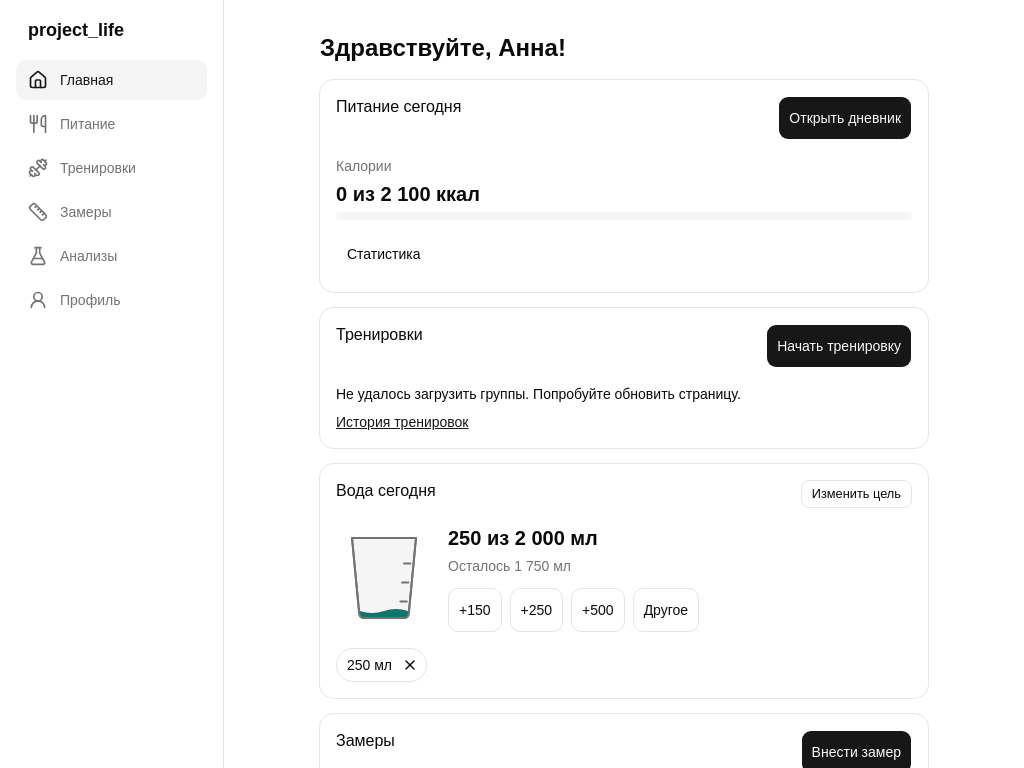
it: вода на главной › показывает отказ сервера при удалении порции
This screenshot has width=1024, height=768.
What coordinates should you click on to do the following:
click the button named "Убрать 250 мл"
I would click on:
 (410, 665)
Its box is [394,649,426,681].
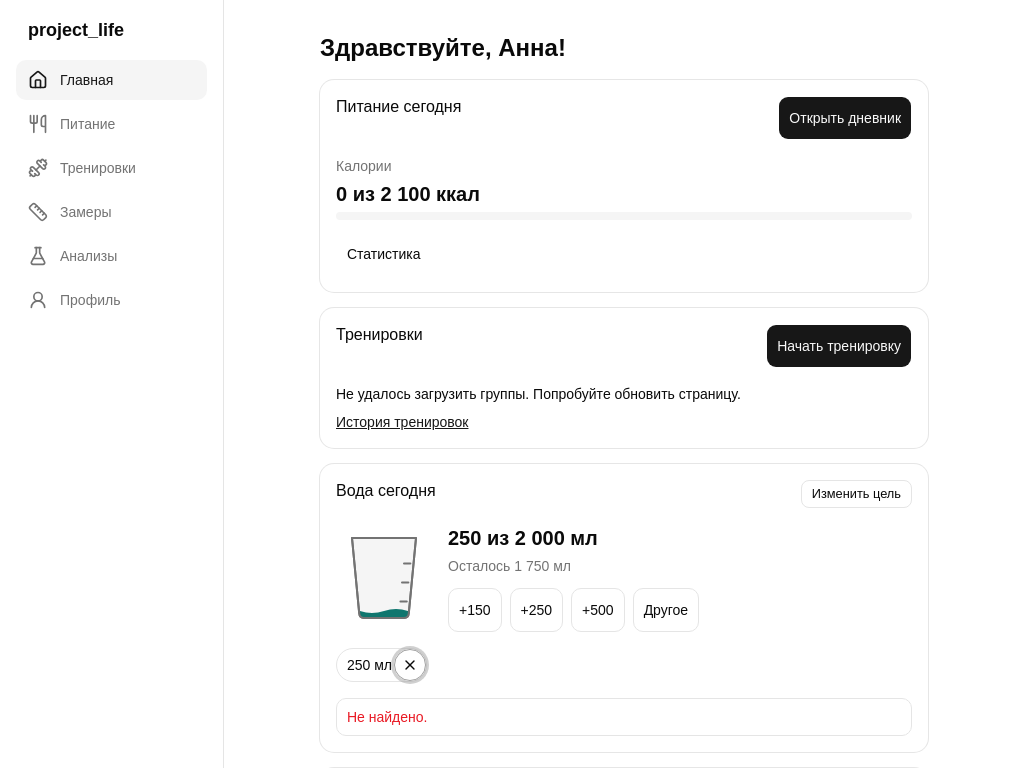
expect the message "Не найдено." is shown: met, box [336,698,912,736]
